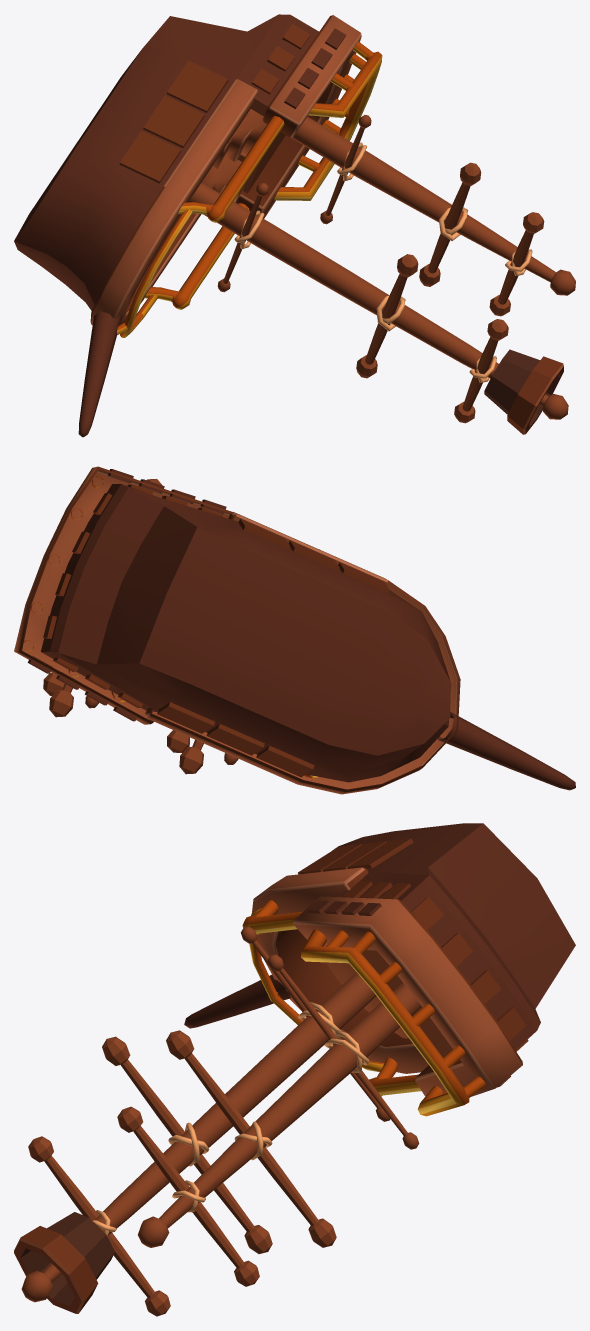
File: Ship_Big.fbx
3 renders of one model, top to bottom at view 1: azimuth 30°, elevation 25°; view 2: azimuth 150°, elevation 25°; view 3: azimuth 270°, elevation 25°, orthographic. The views are drawn at different scales.
Parts seen in each view (by area): view 1: Color_01; view 2: Color_01; view 3: Color_01.
Part boxes in pixels (x1,y1,x2,y2): Color_01: (14, 14, 575, 437); Color_01: (14, 466, 575, 794); Color_01: (14, 823, 575, 1316).
Size of the model in its own units: 45.11 by 30.87 by 39.04.
